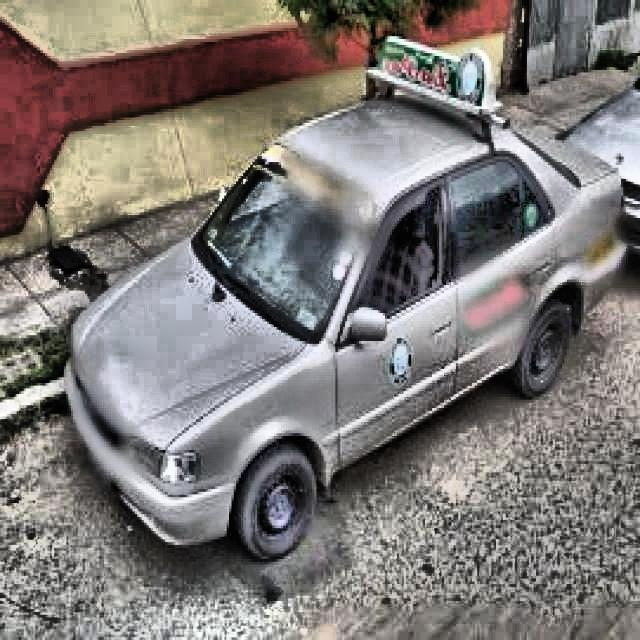carro: (60, 75, 628, 552)
